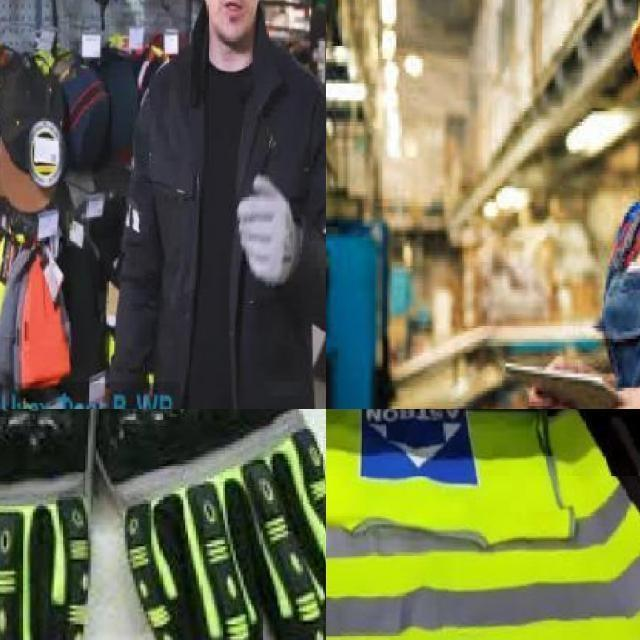apron: (88, 409, 326, 640), (0, 409, 99, 640), (232, 169, 302, 288)
